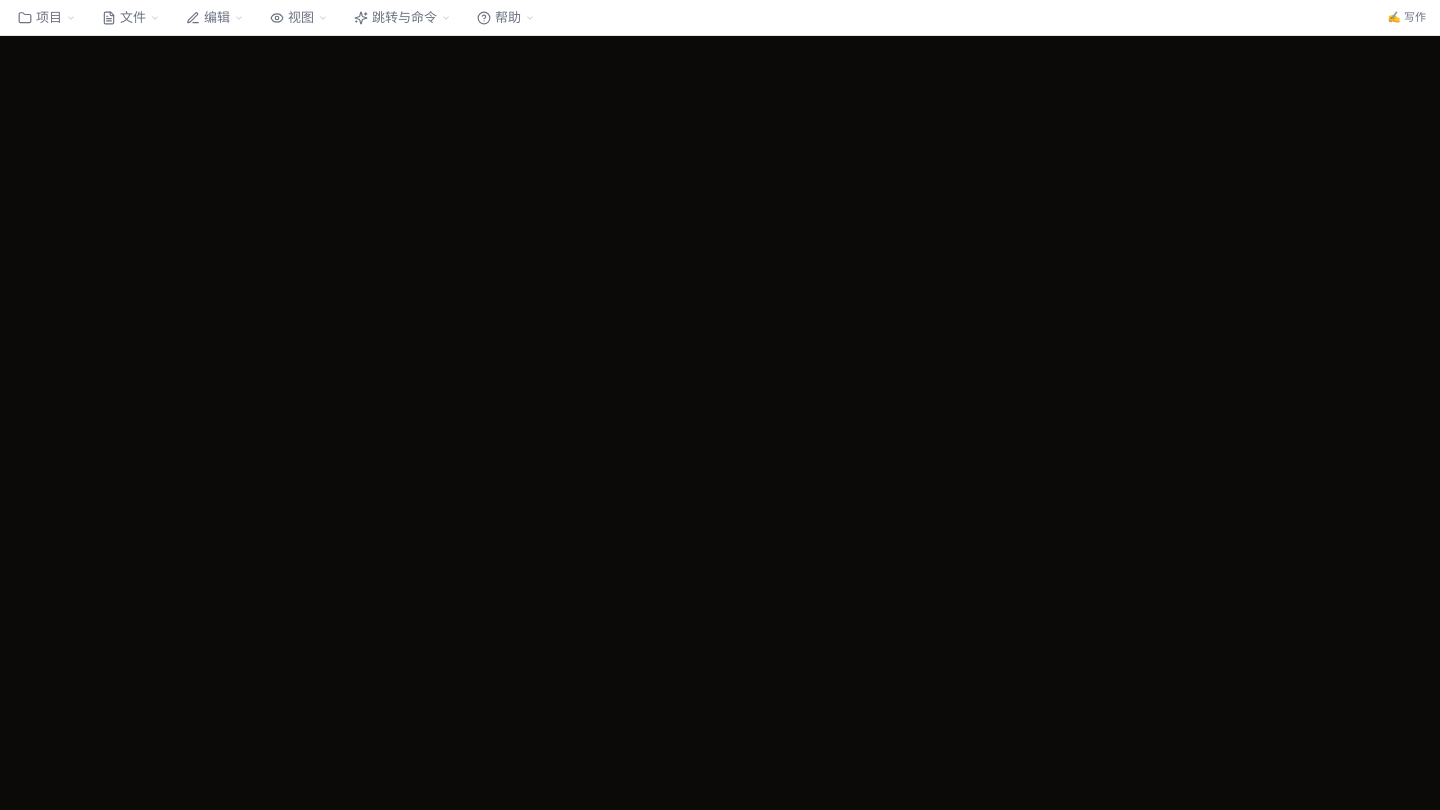
Test case: MenuBar(注册表驱动) › 帮助组保留「关于 Galide」外部链接项(非注册表命令)
The image size is (1440, 810).
Click the button with test id "menu-help". click: (506,18)
box: [465,4,547,32]
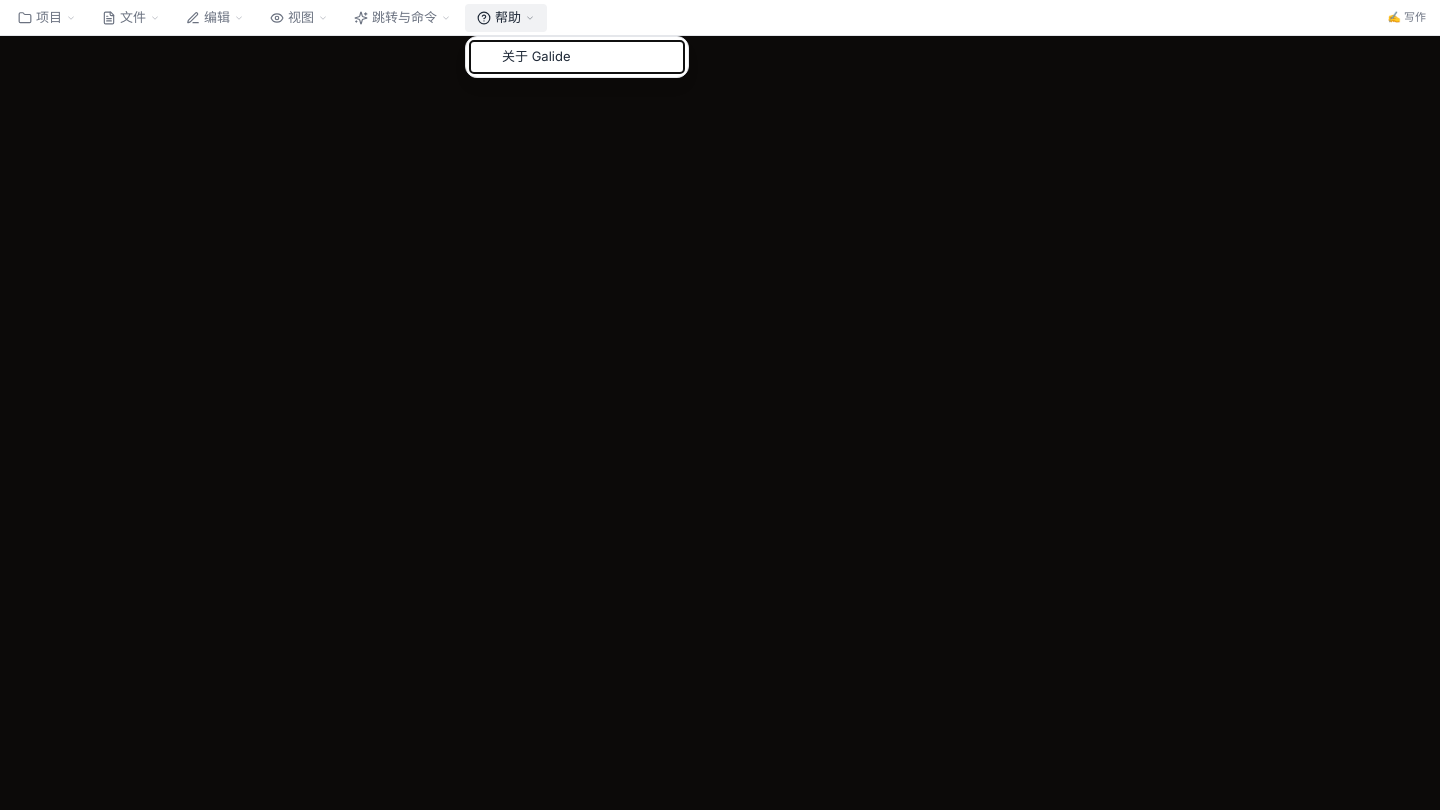
Check: the button with test id "menu-item-help-about" reads "关于 Galide", box [470,41,684,72]
